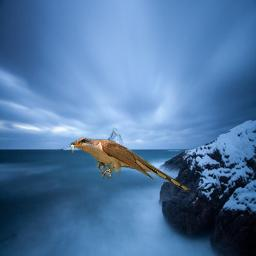Cuckoo: (67, 137, 191, 192)
